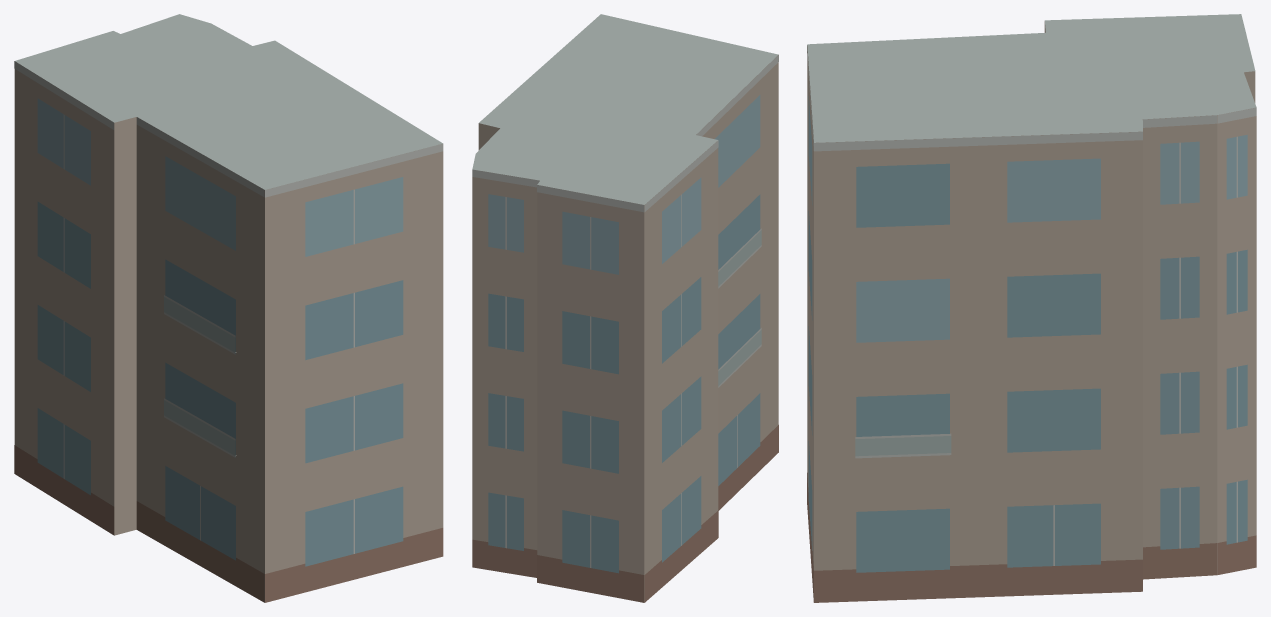
The model's file is survey-upis-33029980.glb.
3 renders of one model, left to right at view 1: azimuth 30°, elevation 25°; view 2: azimuth 150°, elevation 25°; view 3: azimuth 270°, elevation 25°, orthographic. The views are drawn at different scales.
Parts seen in each view (by area): view 1: survey-upis-33029980.tmp; view 2: survey-upis-33029980.tmp; view 3: survey-upis-33029980.tmp.
Part boxes in pixels (x1,y1,x2,y2): survey-upis-33029980.tmp: (14,14,443,602); survey-upis-33029980.tmp: (472,14,778,602); survey-upis-33029980.tmp: (807,14,1256,602).
Size of the model in its own units: 7.88 by 13.1 by 11.61.
